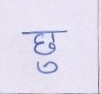u_matra: (37, 61, 59, 74)
